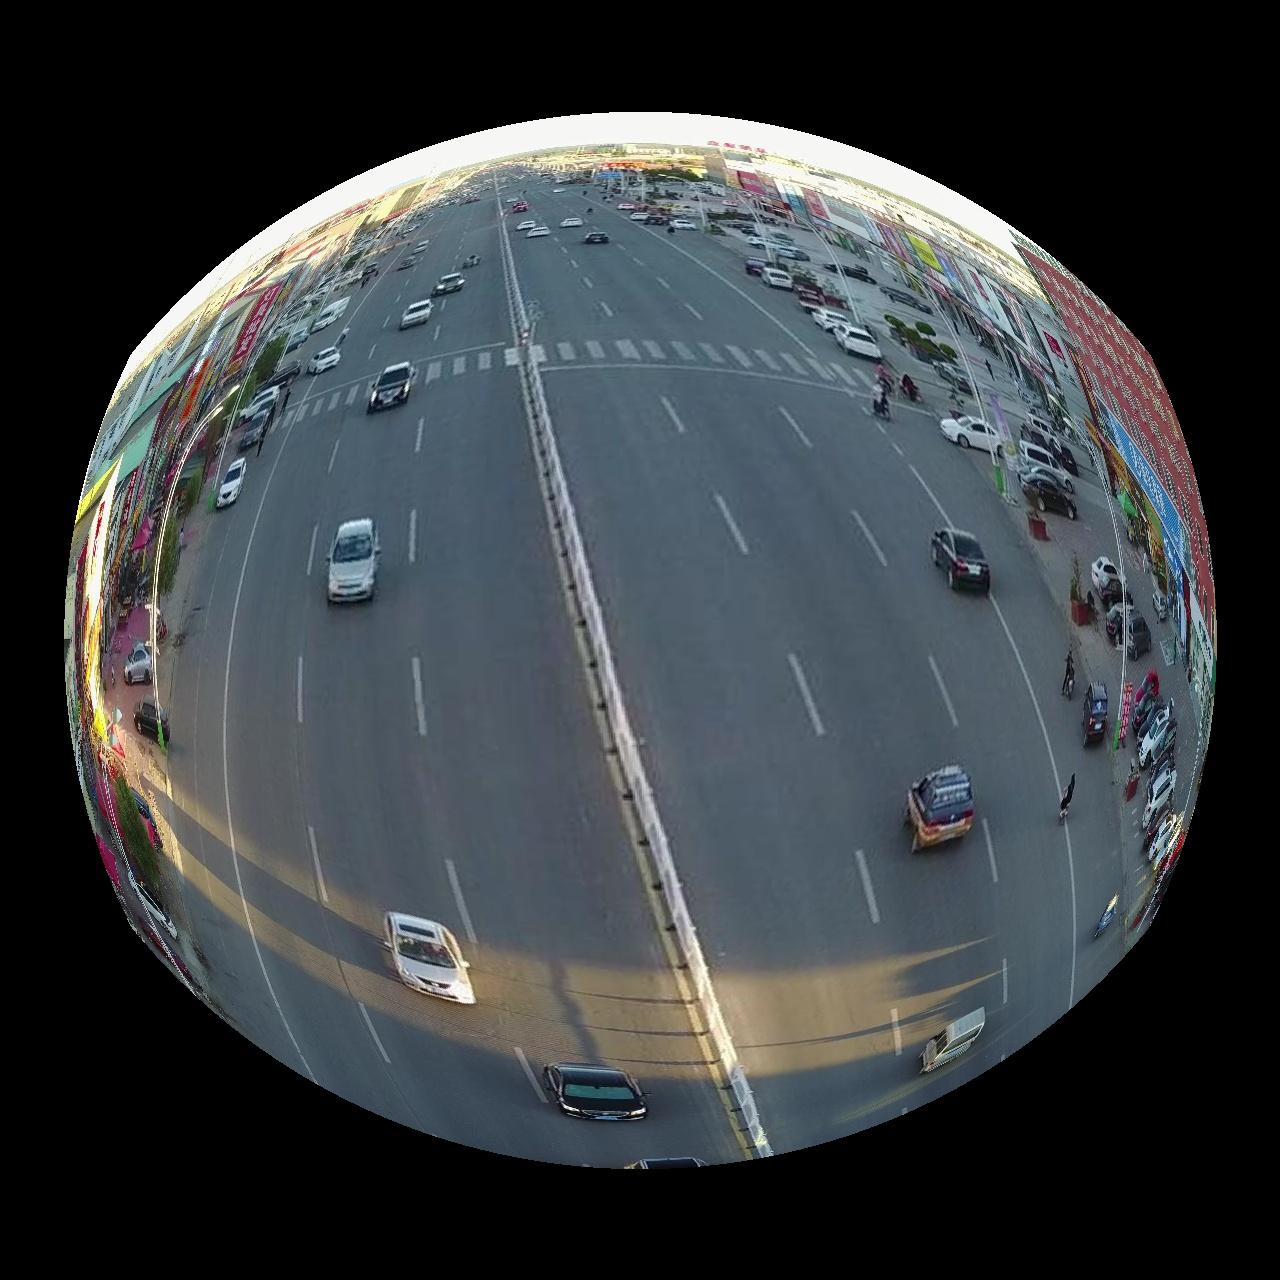building: (1019, 234, 1218, 688)
cars: (384, 913, 476, 1007), (544, 1064, 648, 1123), (907, 765, 978, 851), (326, 518, 380, 604), (920, 1009, 988, 1076), (932, 527, 993, 592), (366, 361, 416, 413), (942, 415, 1005, 454), (215, 457, 246, 509), (1085, 682, 1110, 748), (309, 297, 348, 332), (399, 298, 433, 328), (307, 346, 340, 374), (433, 271, 467, 295), (583, 229, 610, 244), (559, 215, 584, 227), (526, 225, 551, 237), (516, 220, 536, 231)
